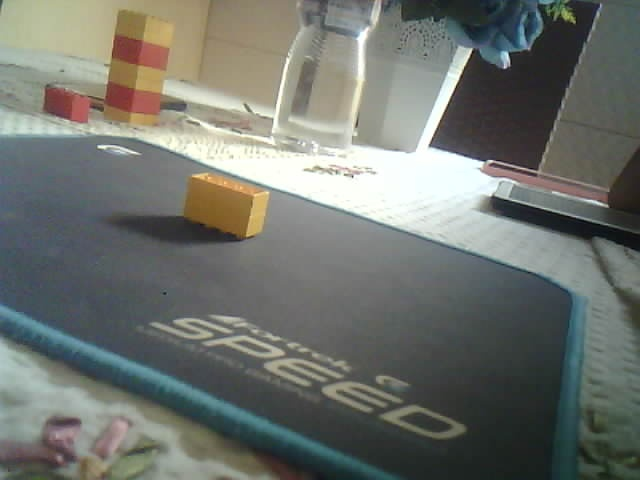lego: (102, 8, 176, 126), (182, 171, 271, 240), (42, 83, 90, 124)
